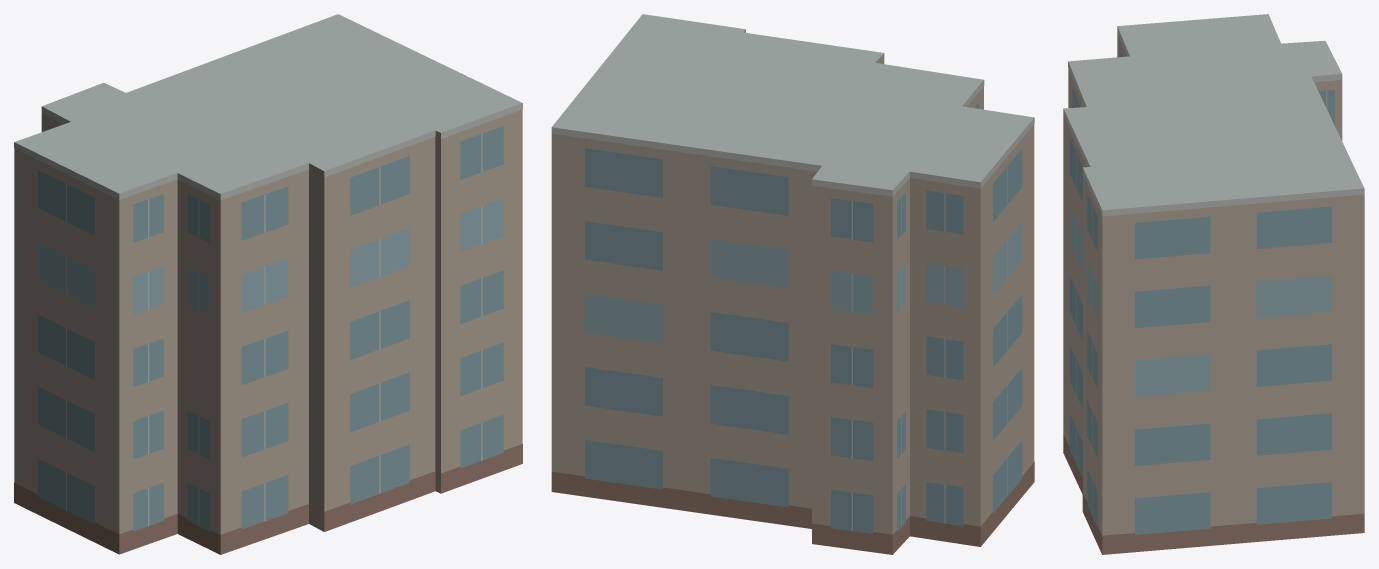
The model's file is survey-upis-32751215.glb.
3 renders of one model, left to right at view 1: azimuth 30°, elevation 25°; view 2: azimuth 150°, elevation 25°; view 3: azimuth 270°, elevation 25°, orthographic. The views are drawn at different scales.
Visible parts, largest first — view 1: survey-upis-32751215.tmp; view 2: survey-upis-32751215.tmp; view 3: survey-upis-32751215.tmp.
Boxes of the visible parts, box(x1,y1,x2,y2) form: survey-upis-32751215.tmp: box(14, 14, 522, 554); survey-upis-32751215.tmp: box(551, 14, 1034, 554); survey-upis-32751215.tmp: box(1063, 14, 1364, 554).
Size of the model in its own units: 17 by 13.9 by 11.02.
